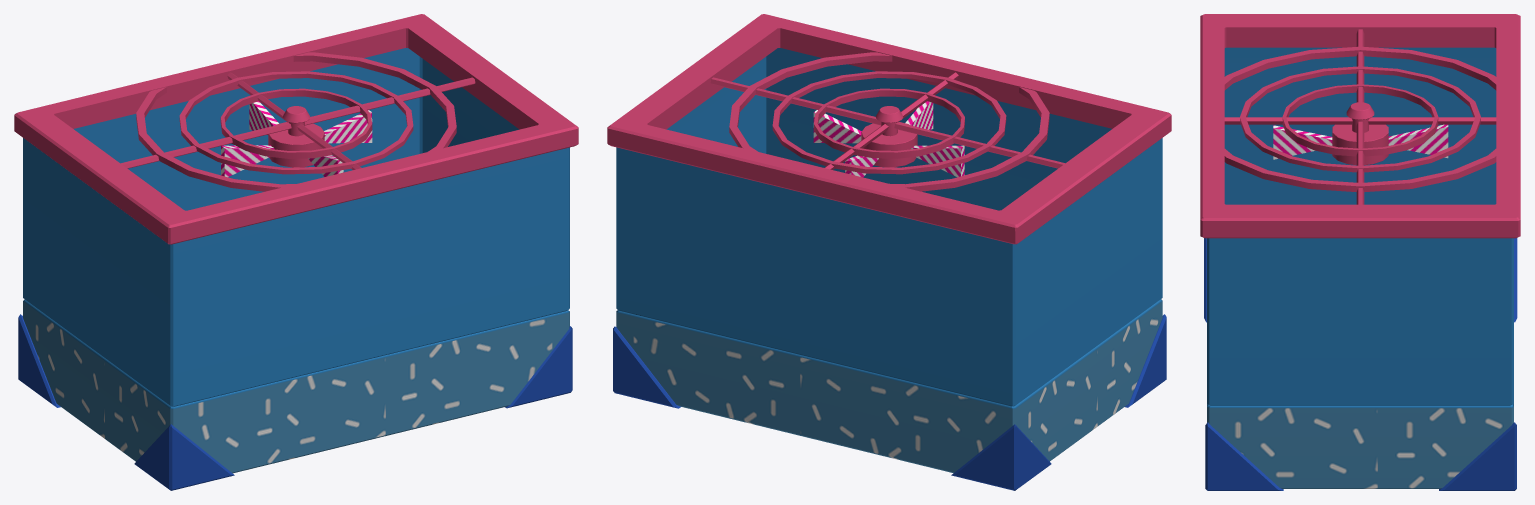
File: PLF0110013.fbx
3 renders of one model, left to right at view 1: azimuth 30°, elevation 25°; view 2: azimuth 150°, elevation 25°; view 3: azimuth 270°, elevation 25°, orthographic. The views are drawn at different scales.
Visible parts, largest first — view 1: Push_Box2, Push_Box3; view 2: Push_Box2, Push_Box3; view 3: Push_Box2, Push_Box3.
Boxes of the visible parts, x1=… form: Push_Box2: x1=14, y1=14, x2=578, y2=490; Push_Box3: x1=221, y1=101, x2=372, y2=177; Push_Box2: x1=607, y1=14, x2=1171, y2=490; Push_Box3: x1=813, y1=101, x2=964, y2=177; Push_Box2: x1=1200, y1=14, x2=1520, y2=490; Push_Box3: x1=1273, y1=102, x2=1448, y2=164.
Size of the model in its own units: 41.45 by 26.72 by 27.23.
1 material, 1 textured.
